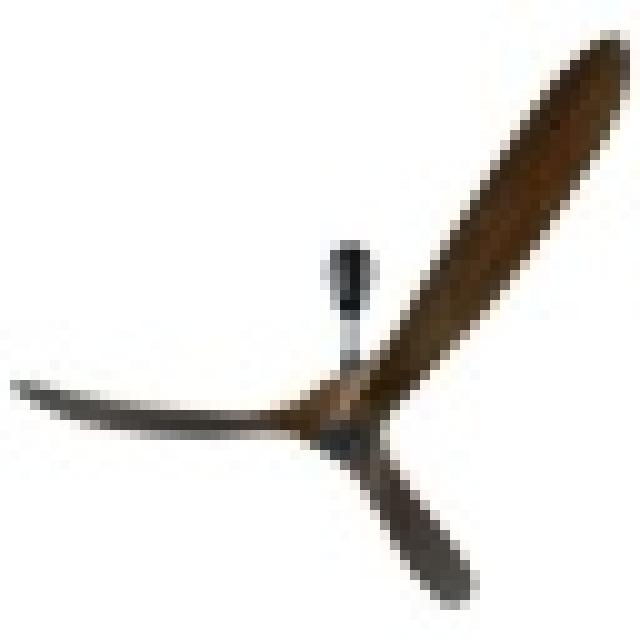Bulb: (100, 70, 630, 640)
